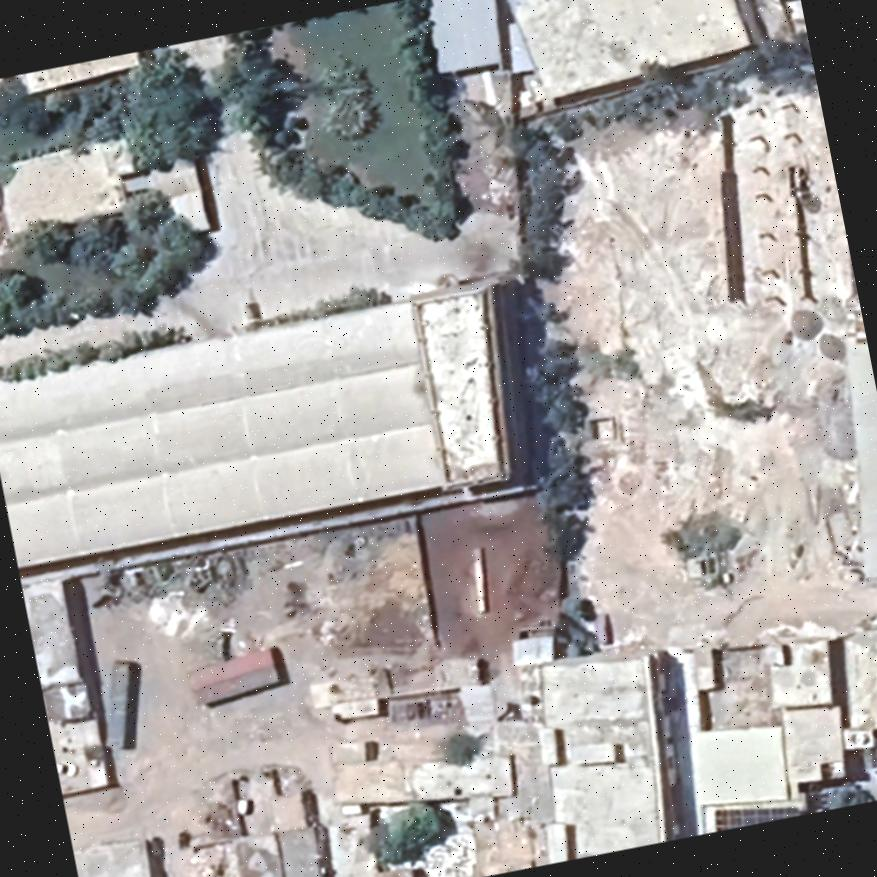Solarpanel: (713, 803, 805, 832)
